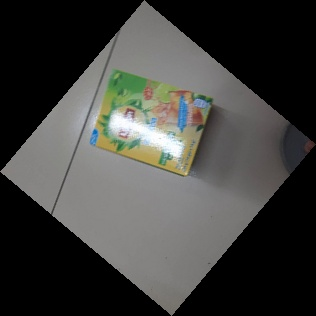LipTon: (86, 68, 218, 182)
